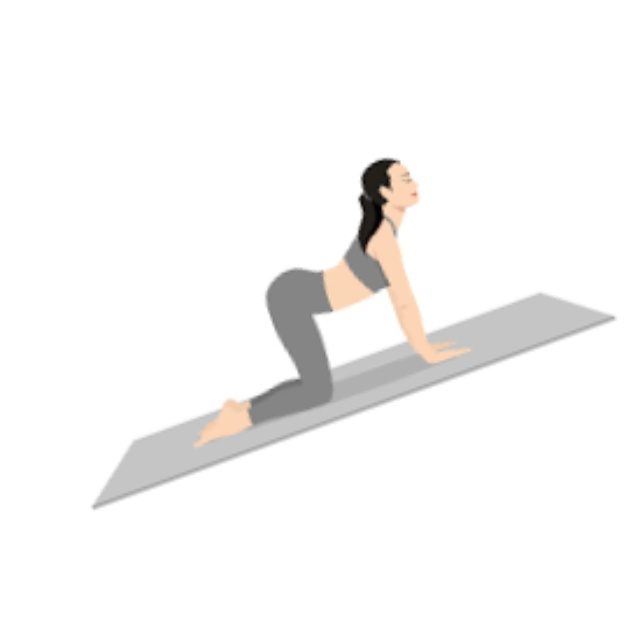Cow_Pose: (193, 158, 469, 449)
